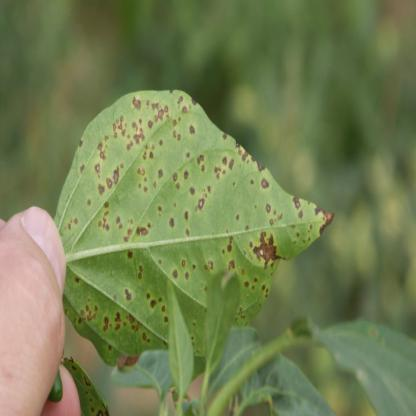Bell_pepper leaf spot: (63, 84, 340, 373)
